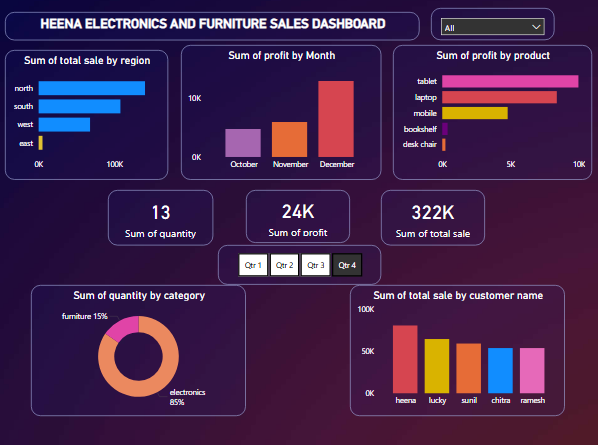

Layout of this report page (visuals, bound fields, positions):
{"tool":"powerbi","page":{"name":"Page 1","canvas":[960,720],"ordinal":0},"visuals":[{"type":"columnChart","fields":{"Category":["Table.date.Variation.Date Hierarchy.Month"],"Y":["Sum(Table.profit)"]},"box":[288.2,86.3,317.6,213.7],"z":0},{"type":"textbox","title":"HEENA ELECTRONICS AND FURNITURE SALES DASHBOARD","box":[10.1,33.3,658,44.9],"z":1000},{"type":"barChart","fields":{"Category":["Table.product"],"Y":["Sum(Table.profit)"]},"box":[625.5,86.3,315.7,213.7],"z":2000},{"type":"donutChart","fields":{"Category":["Table.category"],"Y":["Sum(Table.quantity)"]},"box":[51,466.7,341.2,207.8],"z":3000},{"type":"columnChart","fields":{"Category":["Table.customer name"],"Y":["Sum(Table.total sale)"]},"box":[556.9,466.7,341.2,207.8],"z":4000},{"type":"card","fields":{"Values":["Sum(Table.total sale)"]},"box":[605.9,315.7,164.7,88.2],"z":5000},{"type":"card","fields":{"Values":["Sum(Table.profit)"]},"box":[392.2,315.7,164.7,84.3],"z":6000},{"type":"card","fields":{"Values":["Sum(Table.quantity)"]},"box":[172.5,315.7,166.7,88.2],"z":7000},{"type":"barChart","fields":{"Category":["Table.region"],"Y":["Sum(Table.total sale)"]},"box":[9.8,94.1,258.8,205.9],"z":8000},{"type":"slicer","fields":{"Values":["Table.date.Variation.Date Hierarchy.Quarter"]},"box":[347.1,403.9,258.8,62.7],"z":9000},{"type":"slicer","fields":{"Values":["Table.region"]},"box":[686.3,27.5,196.1,51],"z":10000}]}

Visuals, with their boxes in screenshot pixels (x1, y1, x2, y2), scaled from the page's 960x720 canvas onto the 598x445 screenshot:
columnChart - Table.date.Variation.Date Hierarchy.Month x Sum(Table.profit): left=180, top=53, right=377, bottom=185
"HEENA ELECTRONICS AND FURNITURE SALES DASHBOARD" textbox: left=6, top=21, right=416, bottom=48
barChart - Table.product x Sum(Table.profit): left=390, top=53, right=586, bottom=185
donutChart - Table.category x Sum(Table.quantity): left=32, top=288, right=244, bottom=417
columnChart - Table.customer name x Sum(Table.total sale): left=347, top=288, right=559, bottom=417
card - Sum(Table.total sale): left=377, top=195, right=480, bottom=250
card - Sum(Table.profit): left=244, top=195, right=347, bottom=247
card - Sum(Table.quantity): left=107, top=195, right=211, bottom=250
barChart - Table.region x Sum(Table.total sale): left=6, top=58, right=167, bottom=185
slicer - Table.date.Variation.Date Hierarchy.Quarter: left=216, top=250, right=377, bottom=288
slicer - Table.region: left=428, top=17, right=550, bottom=49
